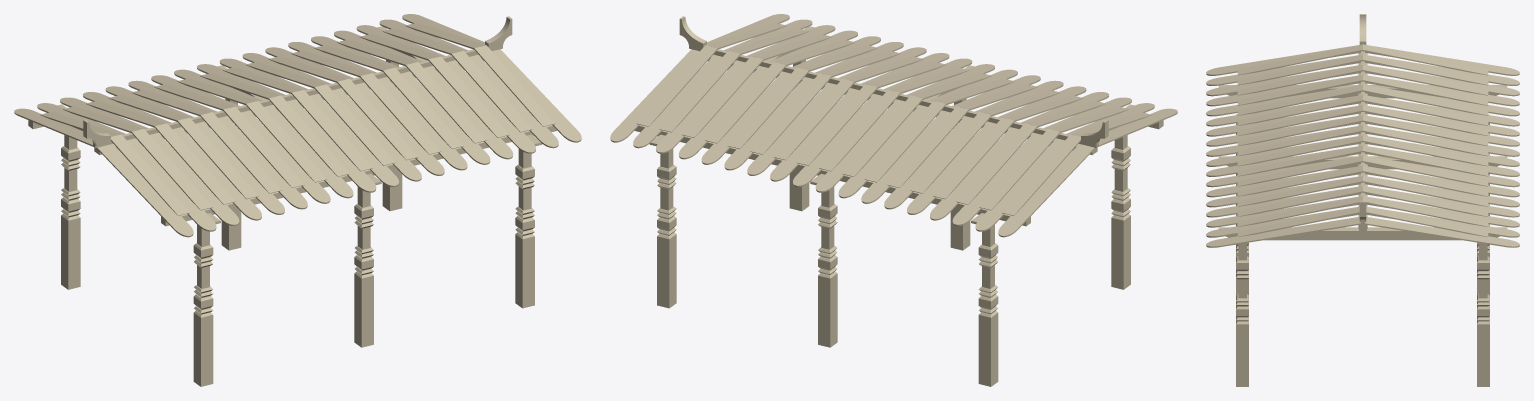
The model's file is sunshade.FBX.
The picture shows the model from 3 angles, left to right: view 1: azimuth 30°, elevation 25°; view 2: azimuth 150°, elevation 25°; view 3: azimuth 270°, elevation 25°; orthographic projection. The views are drawn at different scales.
Visible parts, largest first — view 1: column027; view 2: column027; view 3: column027.
Part boxes in pixels (box(x1,y1,x2,y2)): column027: box(14, 14, 581, 386); column027: box(610, 14, 1177, 386); column027: box(1206, 14, 1519, 386).
Bounding box in the file's own units: 5.56 × 2.81 × 3.91.
